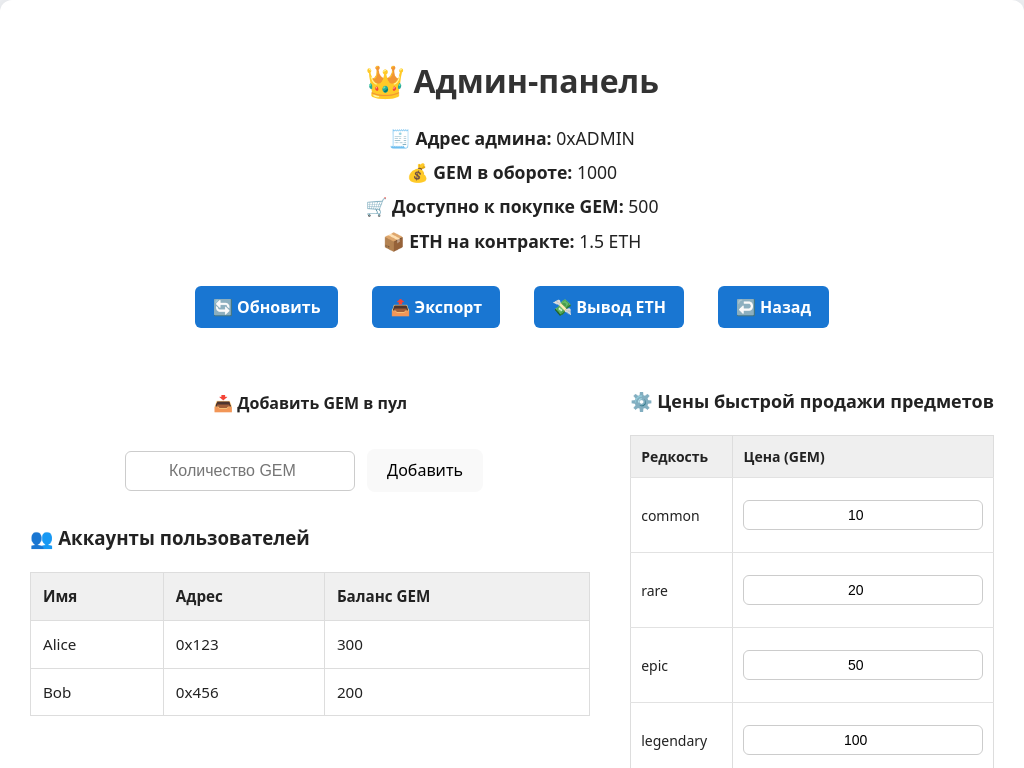
AdminPage › sorts accounts by balance
Step 1. Click the column heading "Баланс GEM" → (457,596), box 324,572 -> 590,620
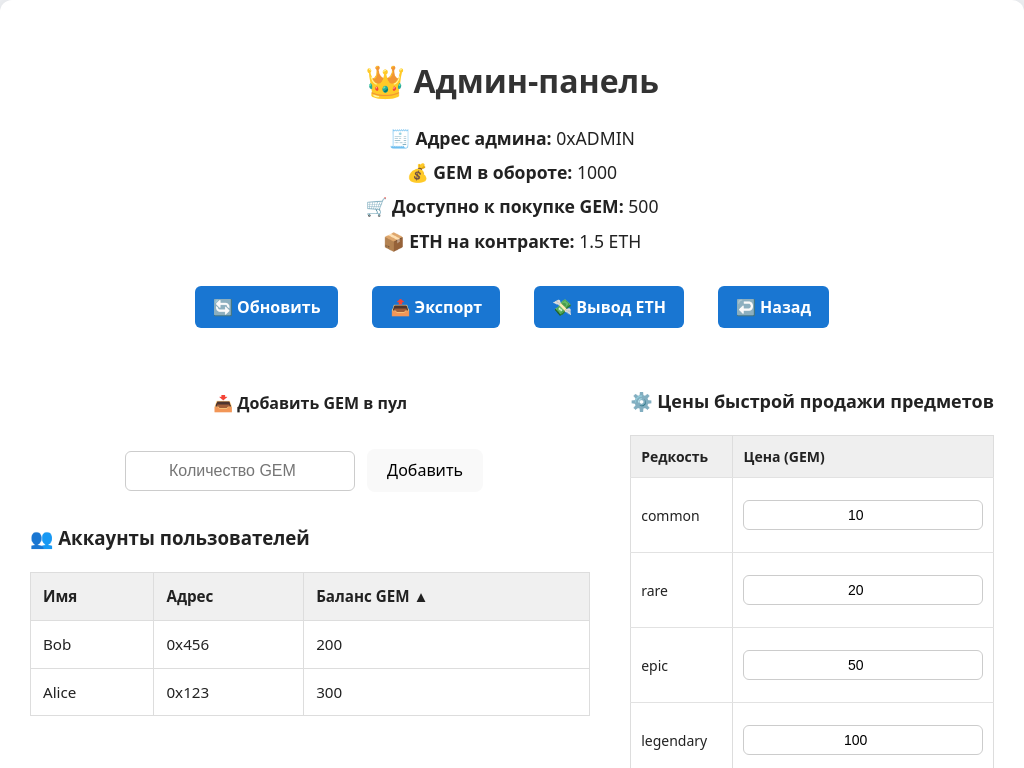
expect the row "Bob 0x456 200" is shown: met, box 30,620 -> 590,668
expect the row "Alice 0x123 300" is shown: met, box 30,668 -> 590,716
